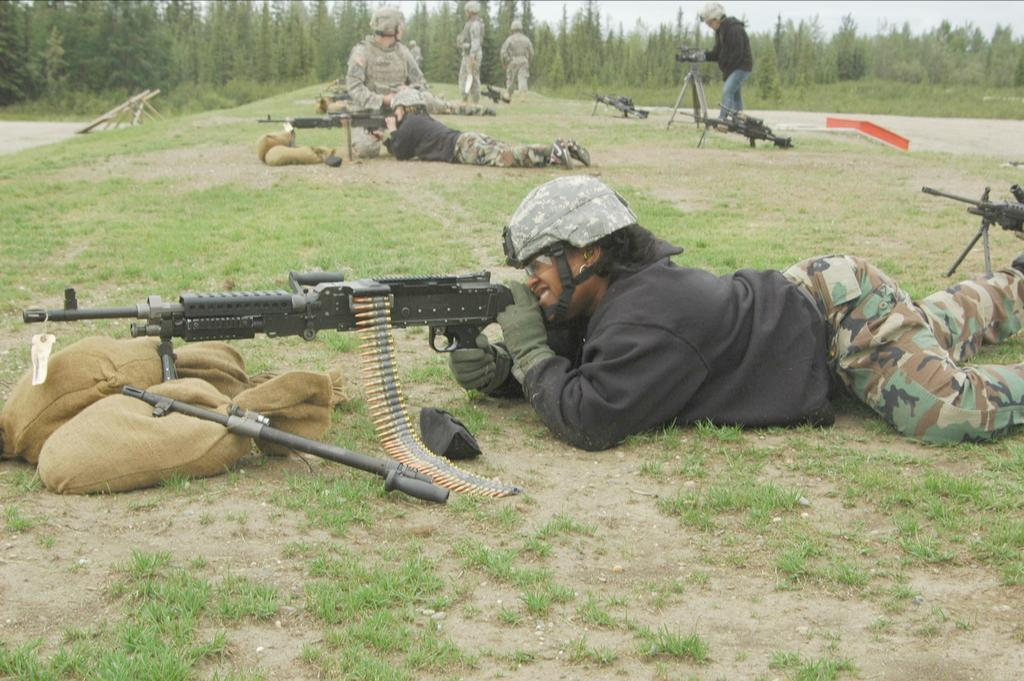gun: (24, 269, 530, 360), (923, 182, 1024, 276), (258, 113, 390, 160), (681, 106, 793, 149), (480, 84, 507, 103)
